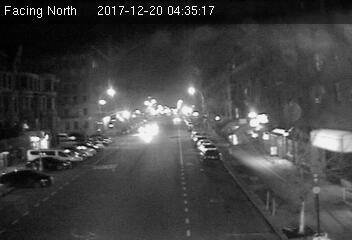car: (201, 148, 222, 164)
